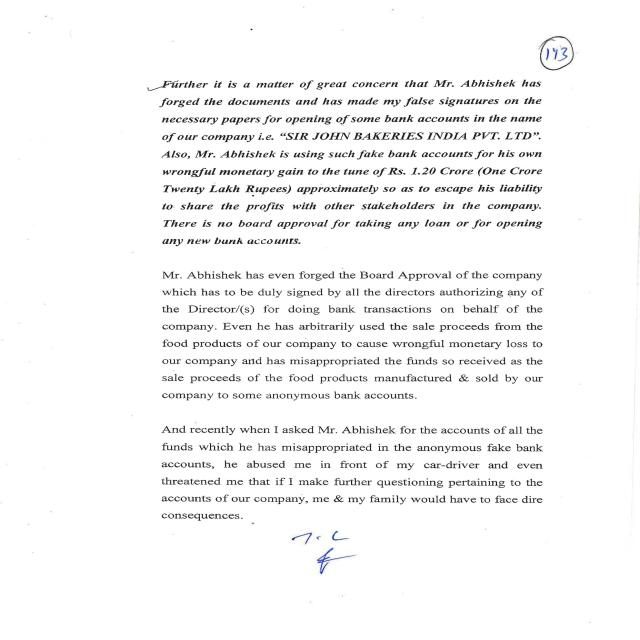page-number: (354, 2, 636, 77)
